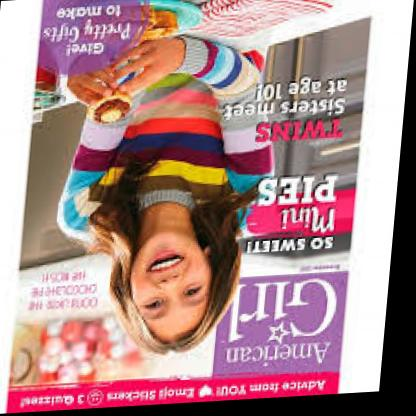Paper: (0, 0, 374, 413)
